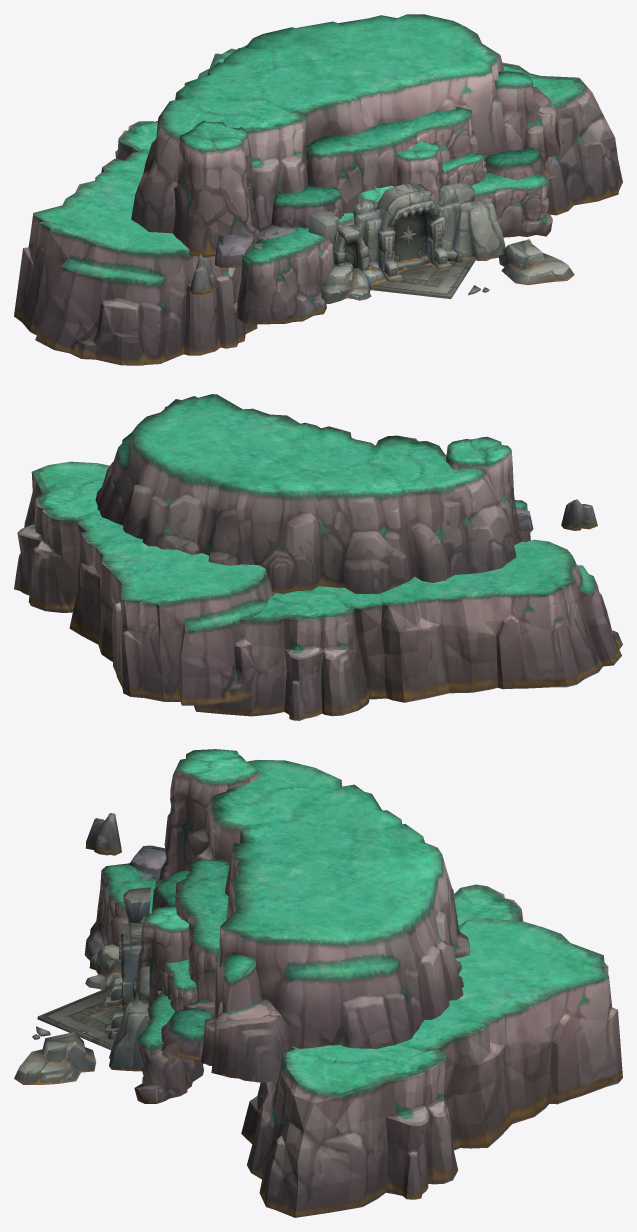
File: boss_04_1.fbx
The picture shows the model from 3 angles, top to bottom: view 1: azimuth 30°, elevation 25°; view 2: azimuth 150°, elevation 25°; view 3: azimuth 270°, elevation 25°; orthographic projection. The views are drawn at different scales.
Parts seen in each view (by area): view 1: boss_04; view 2: boss_04; view 3: boss_04.
Part boxes in pixels (x1,y1,x2,y2): boss_04: (14,14,622,365); boss_04: (14,394,622,720); boss_04: (14,749,622,1217).
Size of the model in its own units: 10475 by 3354 by 7976.
